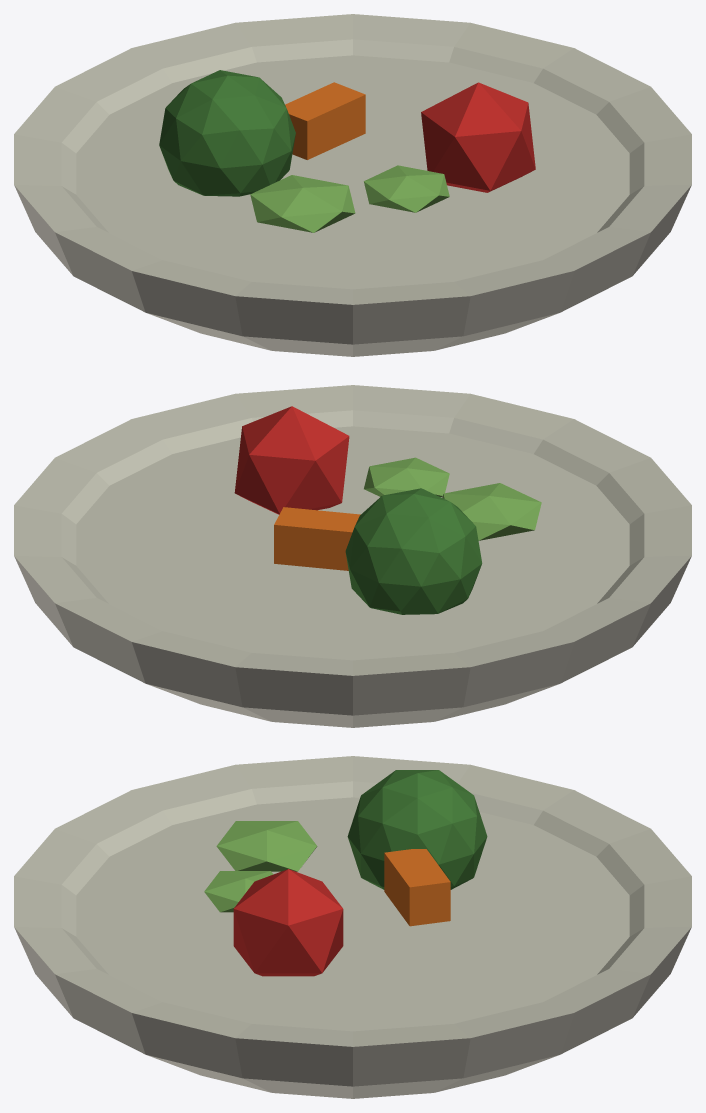
The model's file is Veggie_Plate.glb.
The picture shows the model from 3 angles, top to bottom: view 1: azimuth 30°, elevation 25°; view 2: azimuth 150°, elevation 25°; view 3: azimuth 270°, elevation 25°; orthographic projection.
Visible parts, largest first — view 1: _I_VeggiePlate; view 2: _I_VeggiePlate; view 3: _I_VeggiePlate.
Boxes of the visible parts, left/top/right/bottom form: _I_VeggiePlate: left=14, top=14, right=691, bottom=356; _I_VeggiePlate: left=14, top=385, right=691, bottom=727; _I_VeggiePlate: left=14, top=756, right=691, bottom=1098.
Bounding box in the file's own units: 0.64 × 0.205 × 0.6303.
